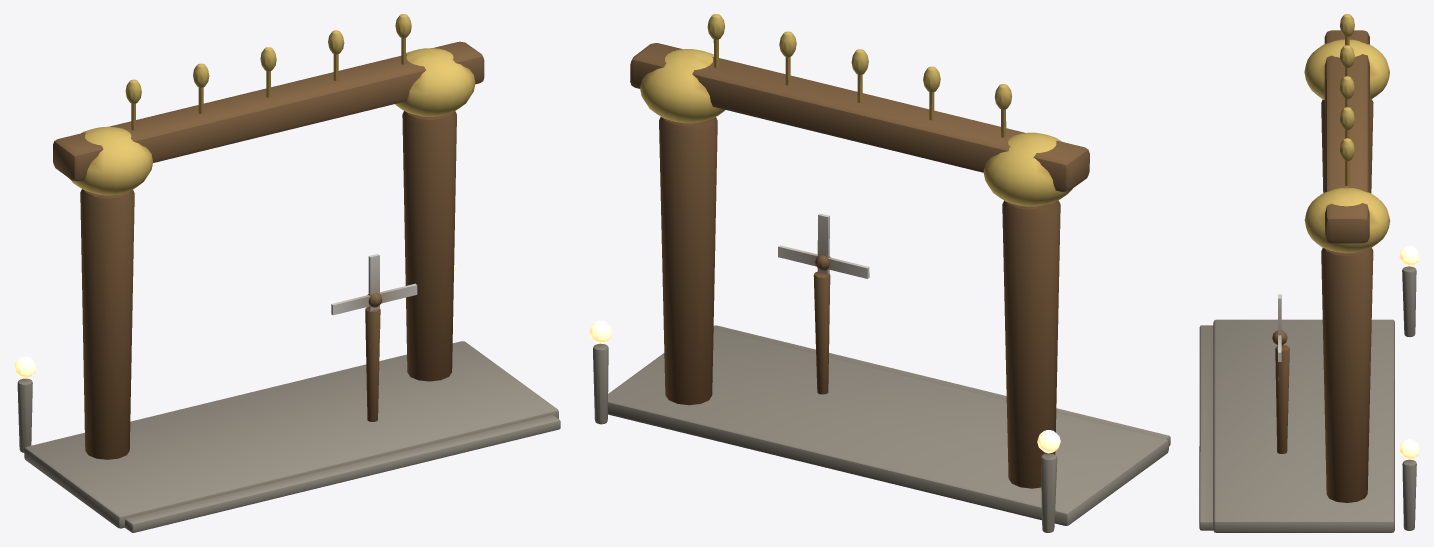
3 views of the same model, side by side, from view 1: azimuth 30°, elevation 25°; view 2: azimuth 150°, elevation 25°; view 3: azimuth 270°, elevation 25° (orthographic). The views are drawn at different scales.
Parts seen in each view (by area): view 1: gate_48170887; view 2: gate_48170887; view 3: gate_48170887.
Boxes of the visible parts, x1,y1,x2,y2 form: gate_48170887: (14,14,560,532); gate_48170887: (589,14,1170,532); gate_48170887: (1199,14,1419,532).
Size of the model in its own units: 5.56 by 4.56 by 2.55.
